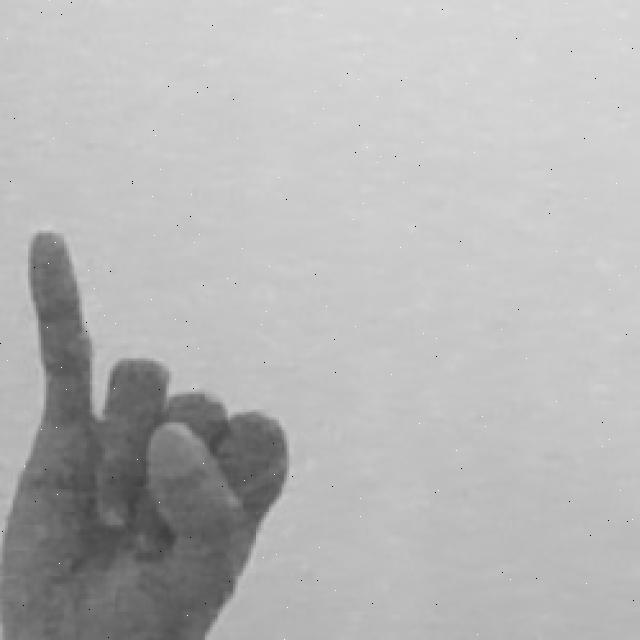I: (0, 228, 300, 640)
